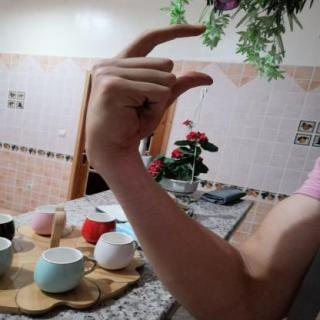DELL: (72, 16, 220, 164)
